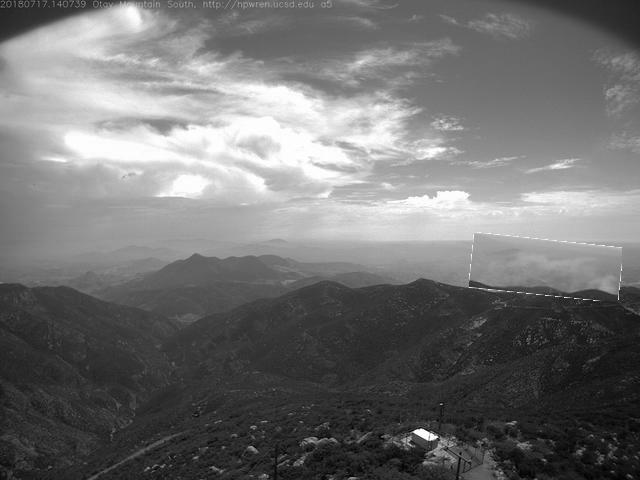smoke: (471, 237, 623, 300)
